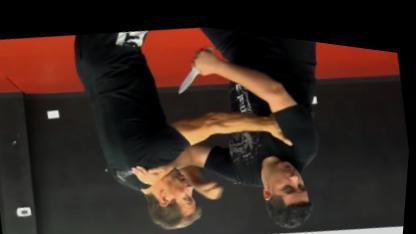knife: (169, 34, 224, 95)
